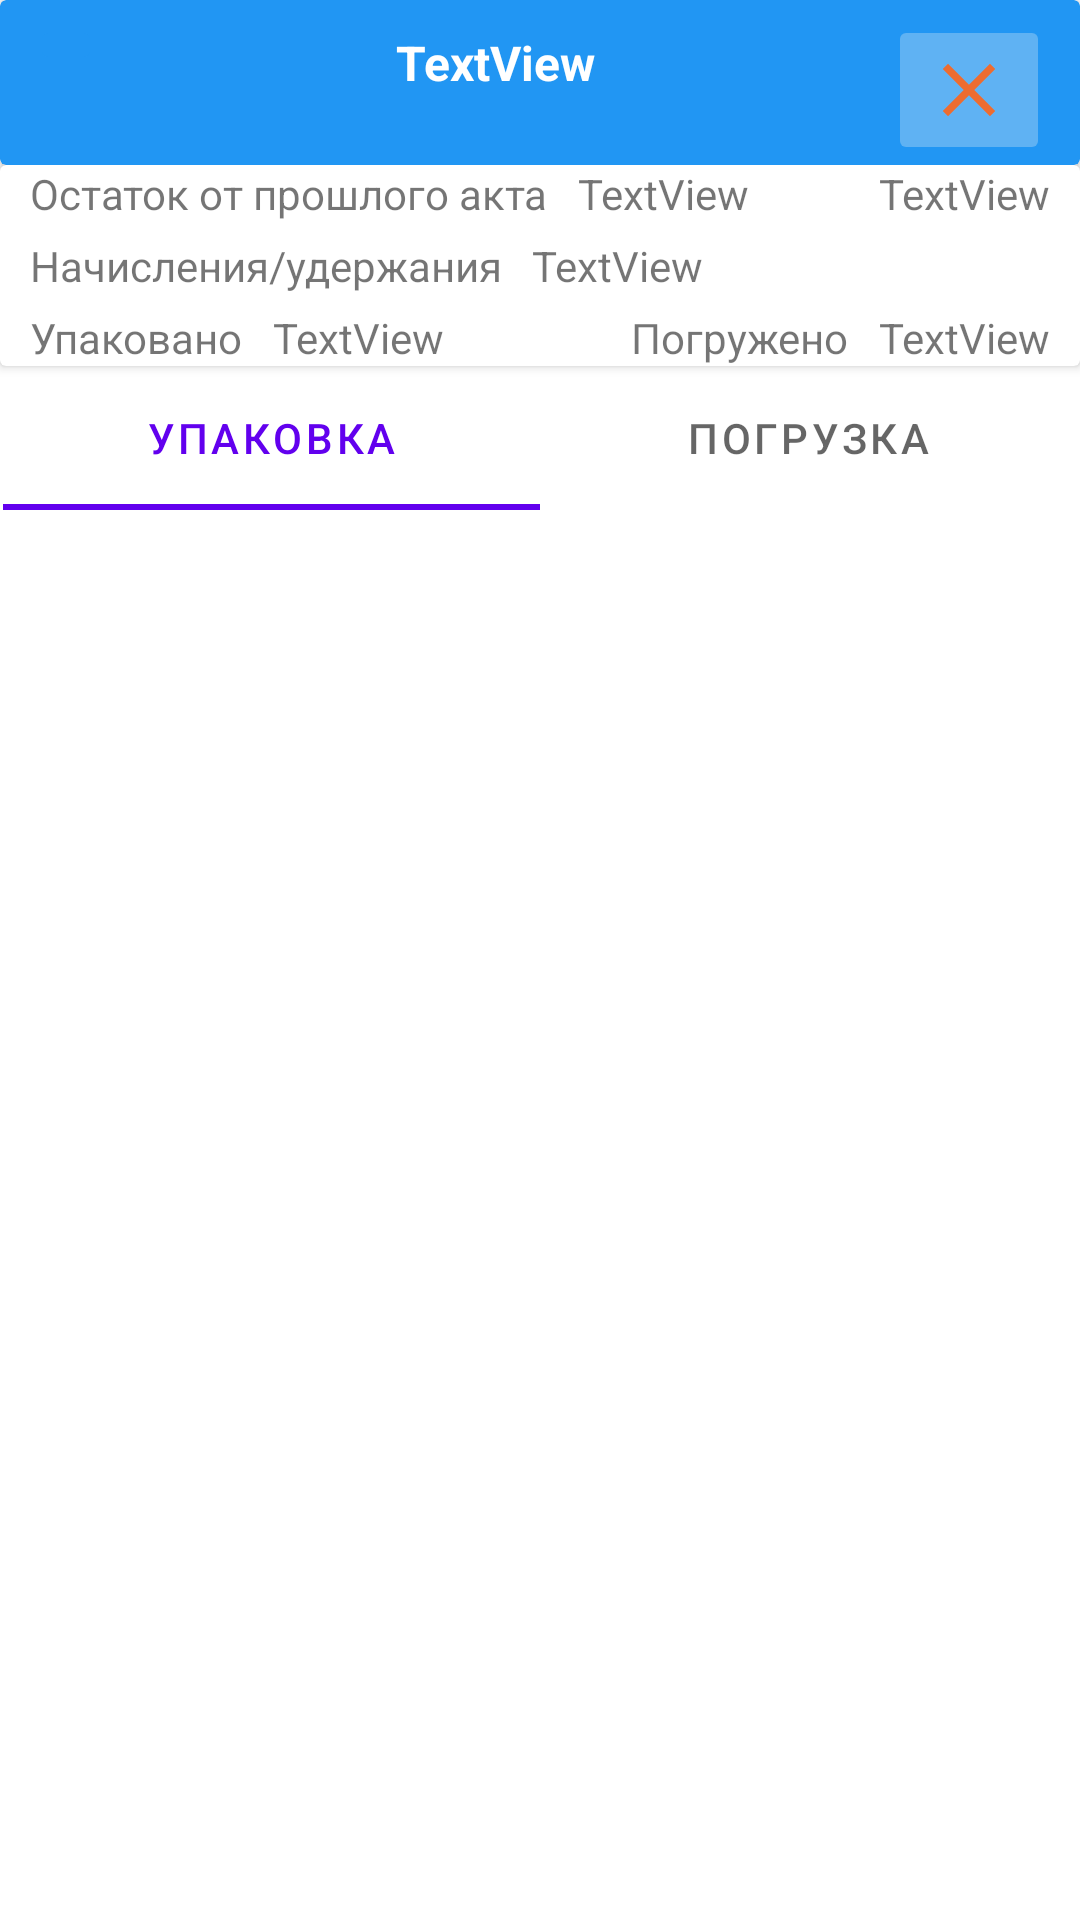

Screen size 1080 × 1920. Icon name, then its box in pixels as [x1, y1, x2, y2]:
close: [900, 33, 1038, 147]
